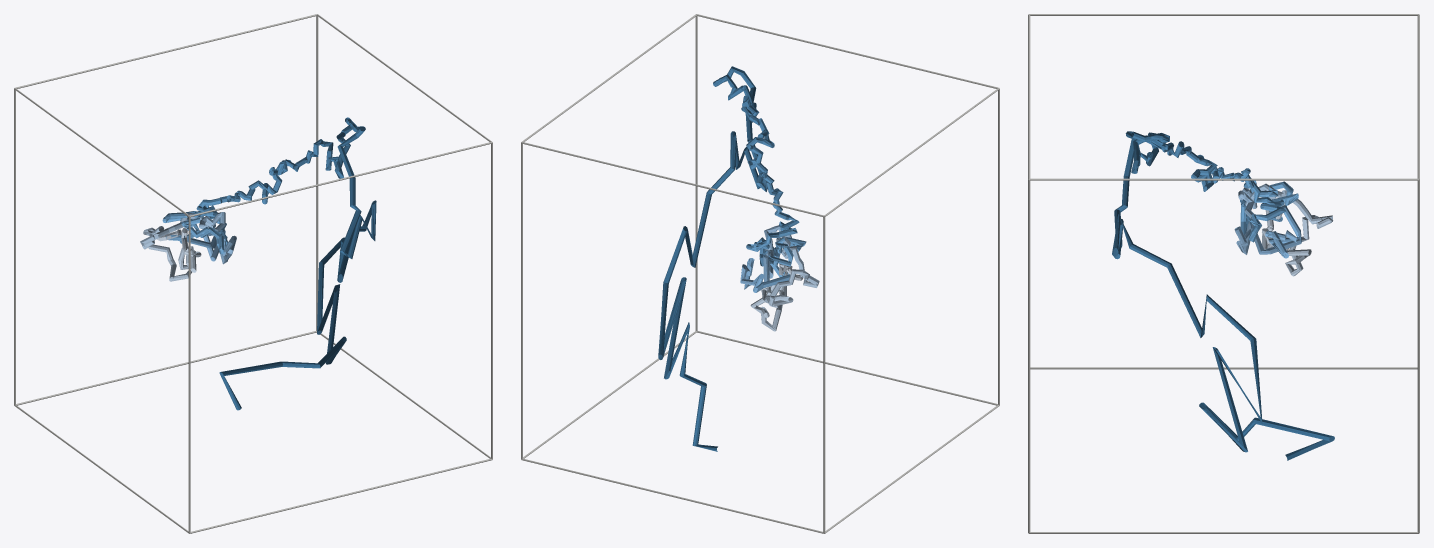
File: SP20_crash.glb
3 views of the same model, side by side, from view 1: azimuth 30°, elevation 25°; view 2: azimuth 150°, elevation 25°; view 3: azimuth 270°, elevation 25° (orthographic). The views are drawn at different scales.
Visible parts, largest first — view 1: geometry_0, geometry_1; view 2: geometry_0, geometry_1; view 3: geometry_0, geometry_1.
Boxes of the visible parts, <box> form: geometry_0: <box>140,117,376,410</box>; geometry_1: <box>14,14,492,533</box>; geometry_0: <box>658,66,819,451</box>; geometry_1: <box>521,14,999,533</box>; geometry_0: <box>1112,131,1334,460</box>; geometry_1: <box>1028,14,1419,533</box>.
Size of the model in its own units: 0.3016 by 0.3047 by 0.3016.
